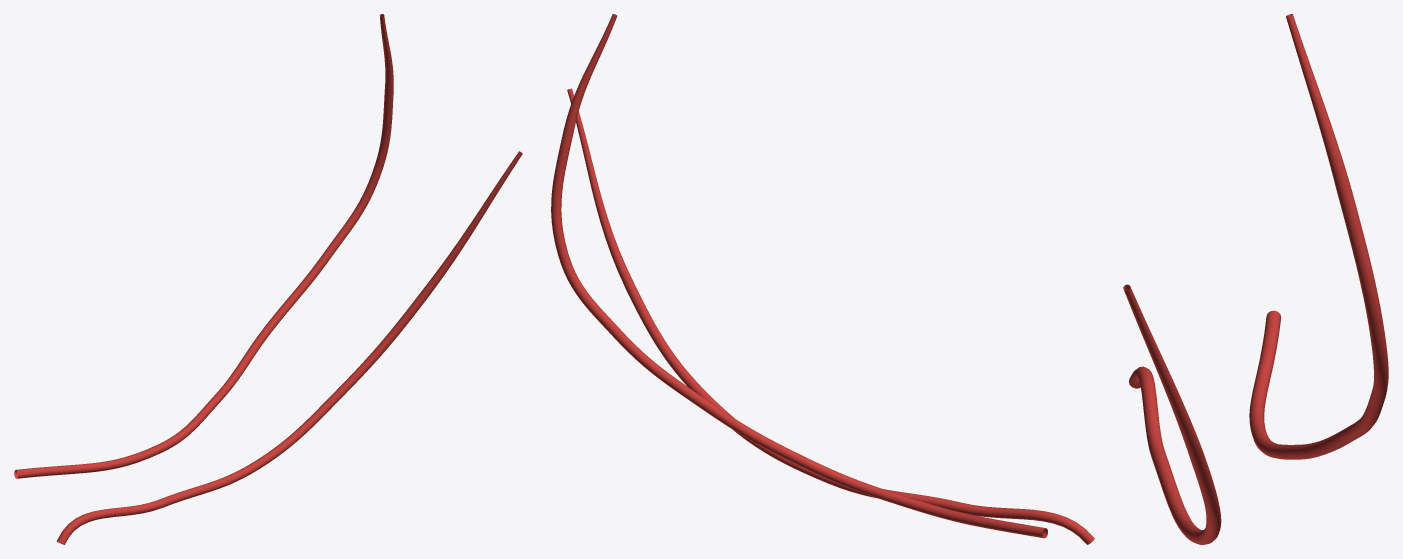
3 views of the same model, side by side, from view 1: azimuth 30°, elevation 25°; view 2: azimuth 150°, elevation 25°; view 3: azimuth 270°, elevation 25° (orthographic). The views are drawn at different scales.
Parts seen in each view (by area): view 1: 左侧基底动脉短旋支; view 2: 左侧基底动脉短旋支; view 3: 左侧基底动脉短旋支.
Part boxes in pixels (x1,y1,x2,y2): 左侧基底动脉短旋支: [14, 14, 522, 544]; 左侧基底动脉短旋支: [551, 14, 1094, 544]; 左侧基底动脉短旋支: [1123, 14, 1388, 544].
Size of the model in its own units: 0.0347 by 0.0292 by 0.0105.
